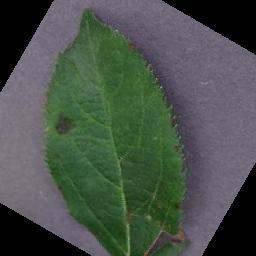apple healthy: (40, 6, 191, 255)
